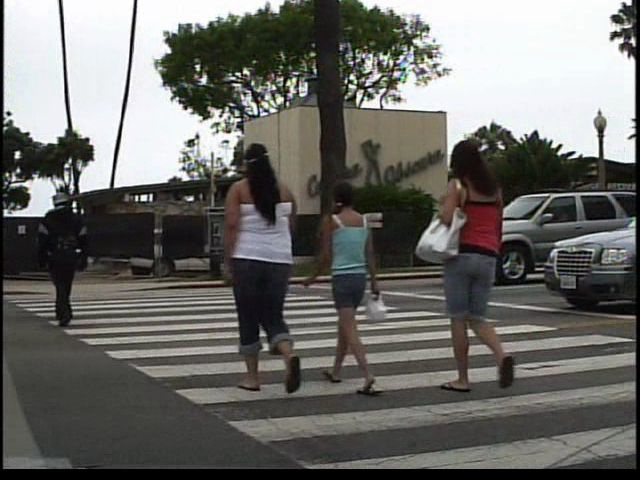person: (431, 132, 533, 400), (218, 133, 318, 406), (312, 171, 386, 396), (29, 181, 95, 332)
